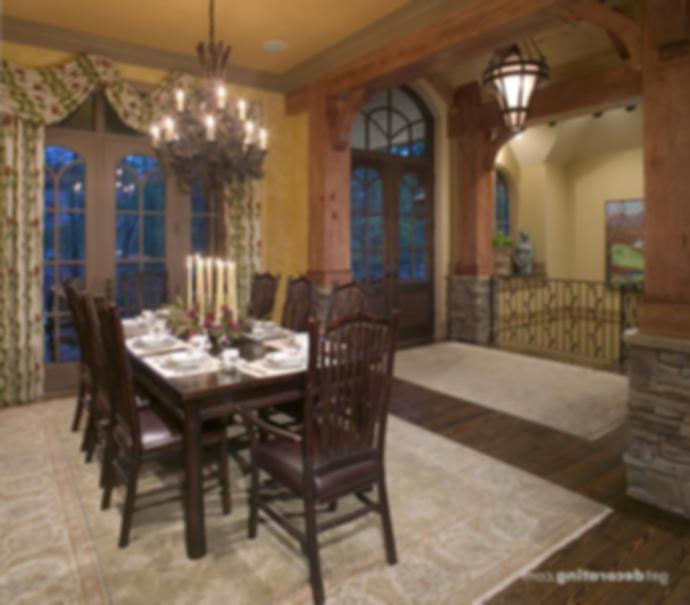Puerta: (350, 163, 429, 346), (103, 141, 177, 307)
